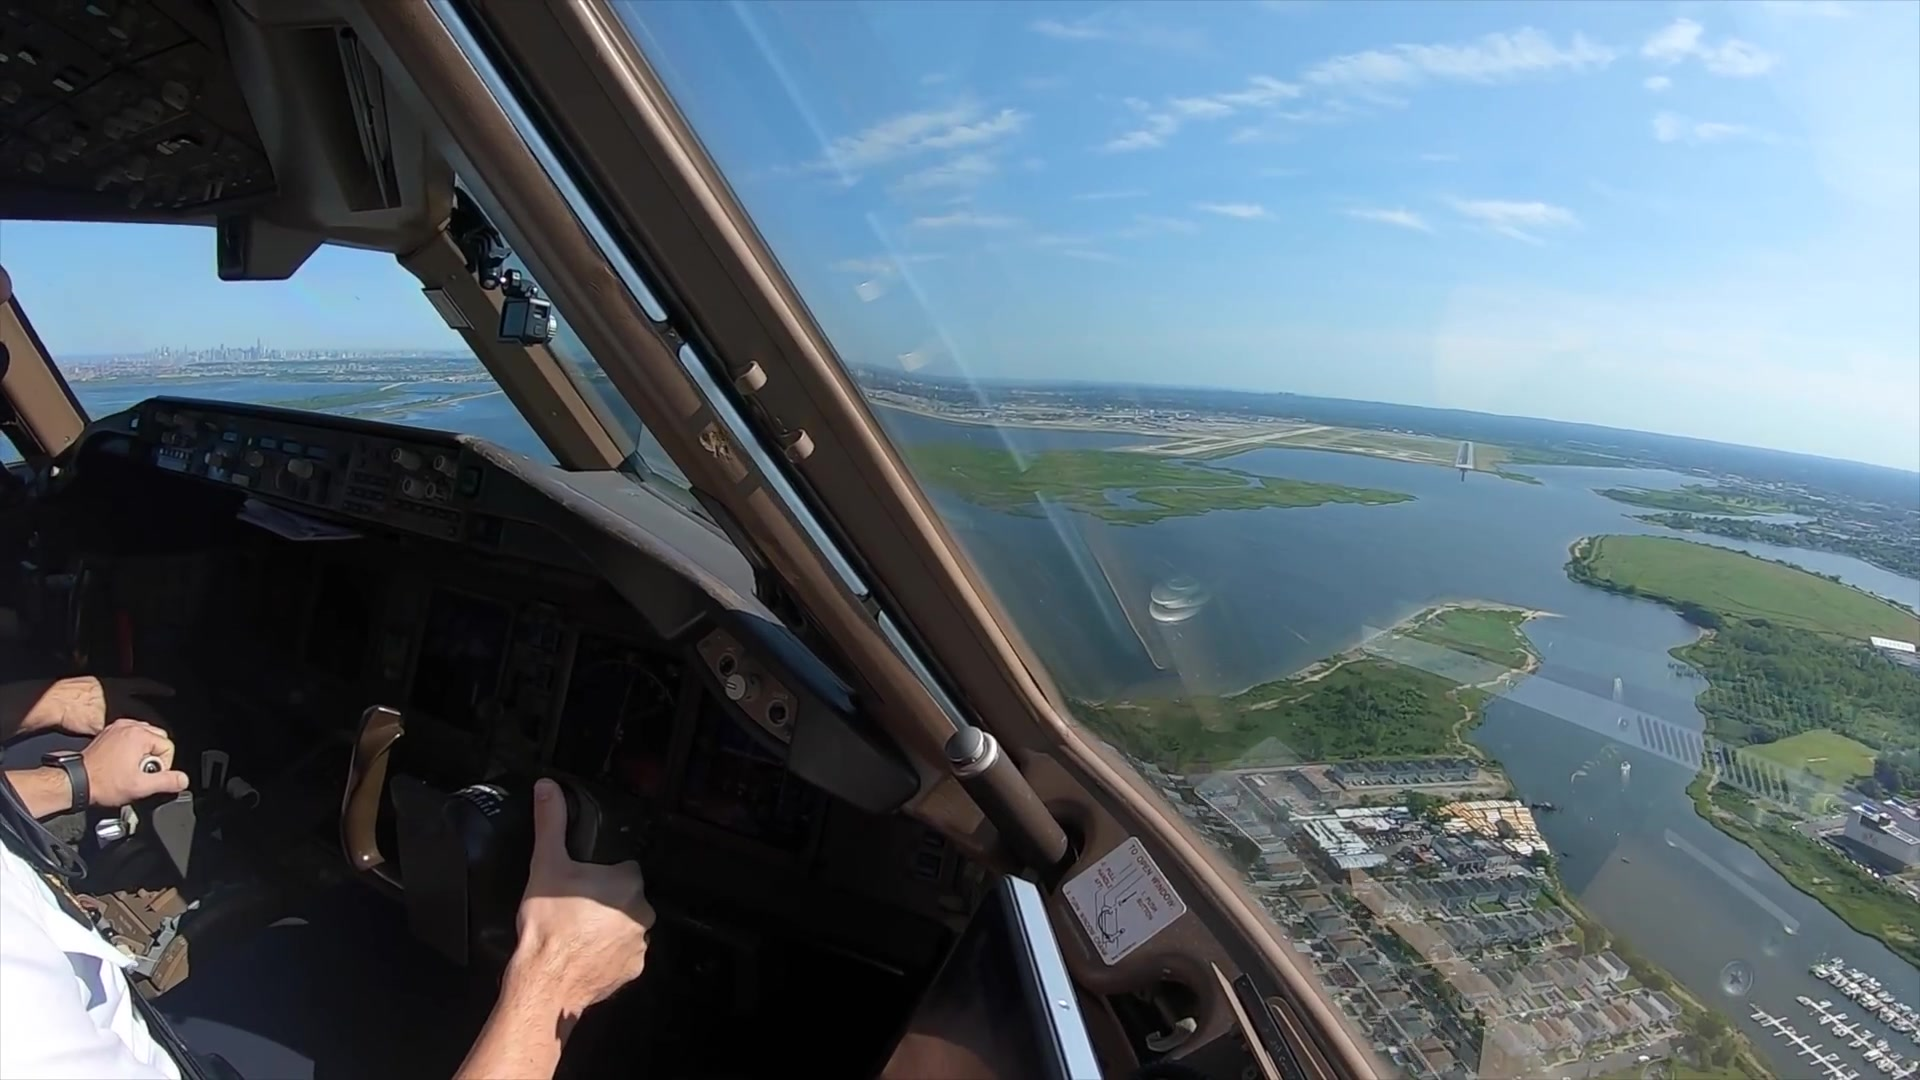runway: (1453, 440, 1477, 469)
